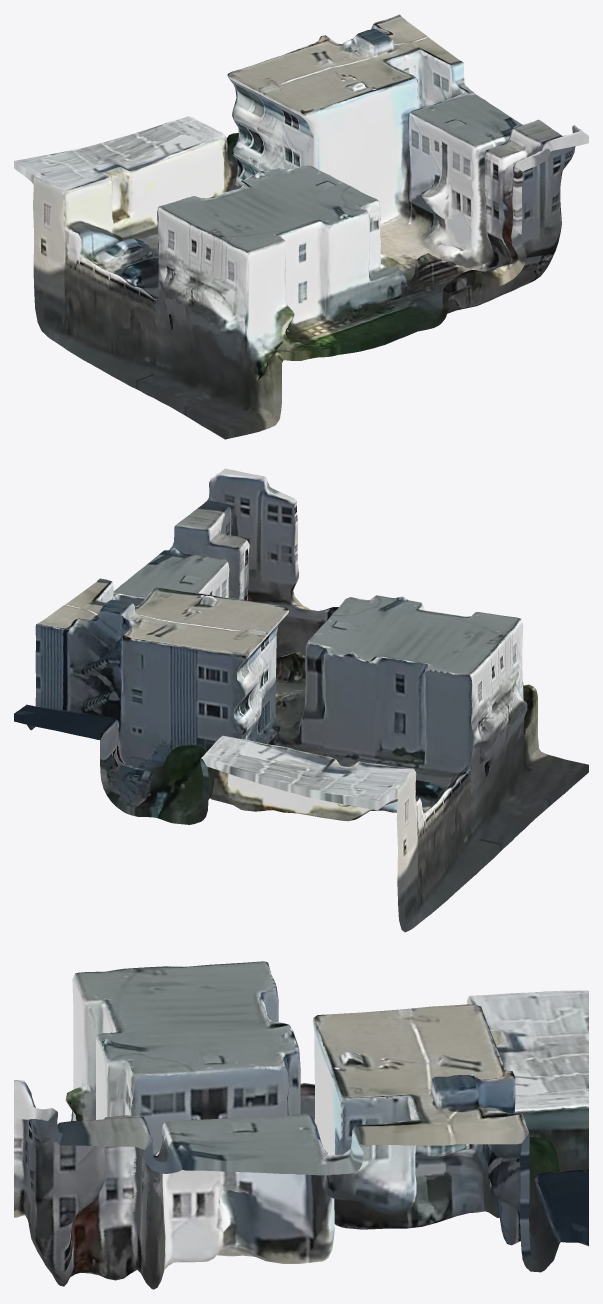
Rendered from z20-167746-405196-h0-yup-uvflip-v3-world.glb.
The picture shows the model from 3 angles, top to bottom: view 1: azimuth 30°, elevation 25°; view 2: azimuth 150°, elevation 25°; view 3: azimuth 270°, elevation 25°; orthographic projection. The views are drawn at different scales.
Bounding box in the file's own units: 30.16 × 19.32 × 30.32.
1 material, 1 textured.
